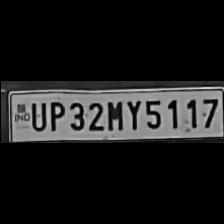1: (163, 96, 181, 130), (180, 96, 198, 128)
2: (84, 98, 104, 132)
3: (65, 99, 84, 131)
5: (141, 96, 163, 130)
7: (198, 96, 218, 128)
M: (104, 98, 124, 132)
P: (44, 98, 64, 132)
U: (27, 99, 45, 130)
Y: (122, 97, 140, 130)
